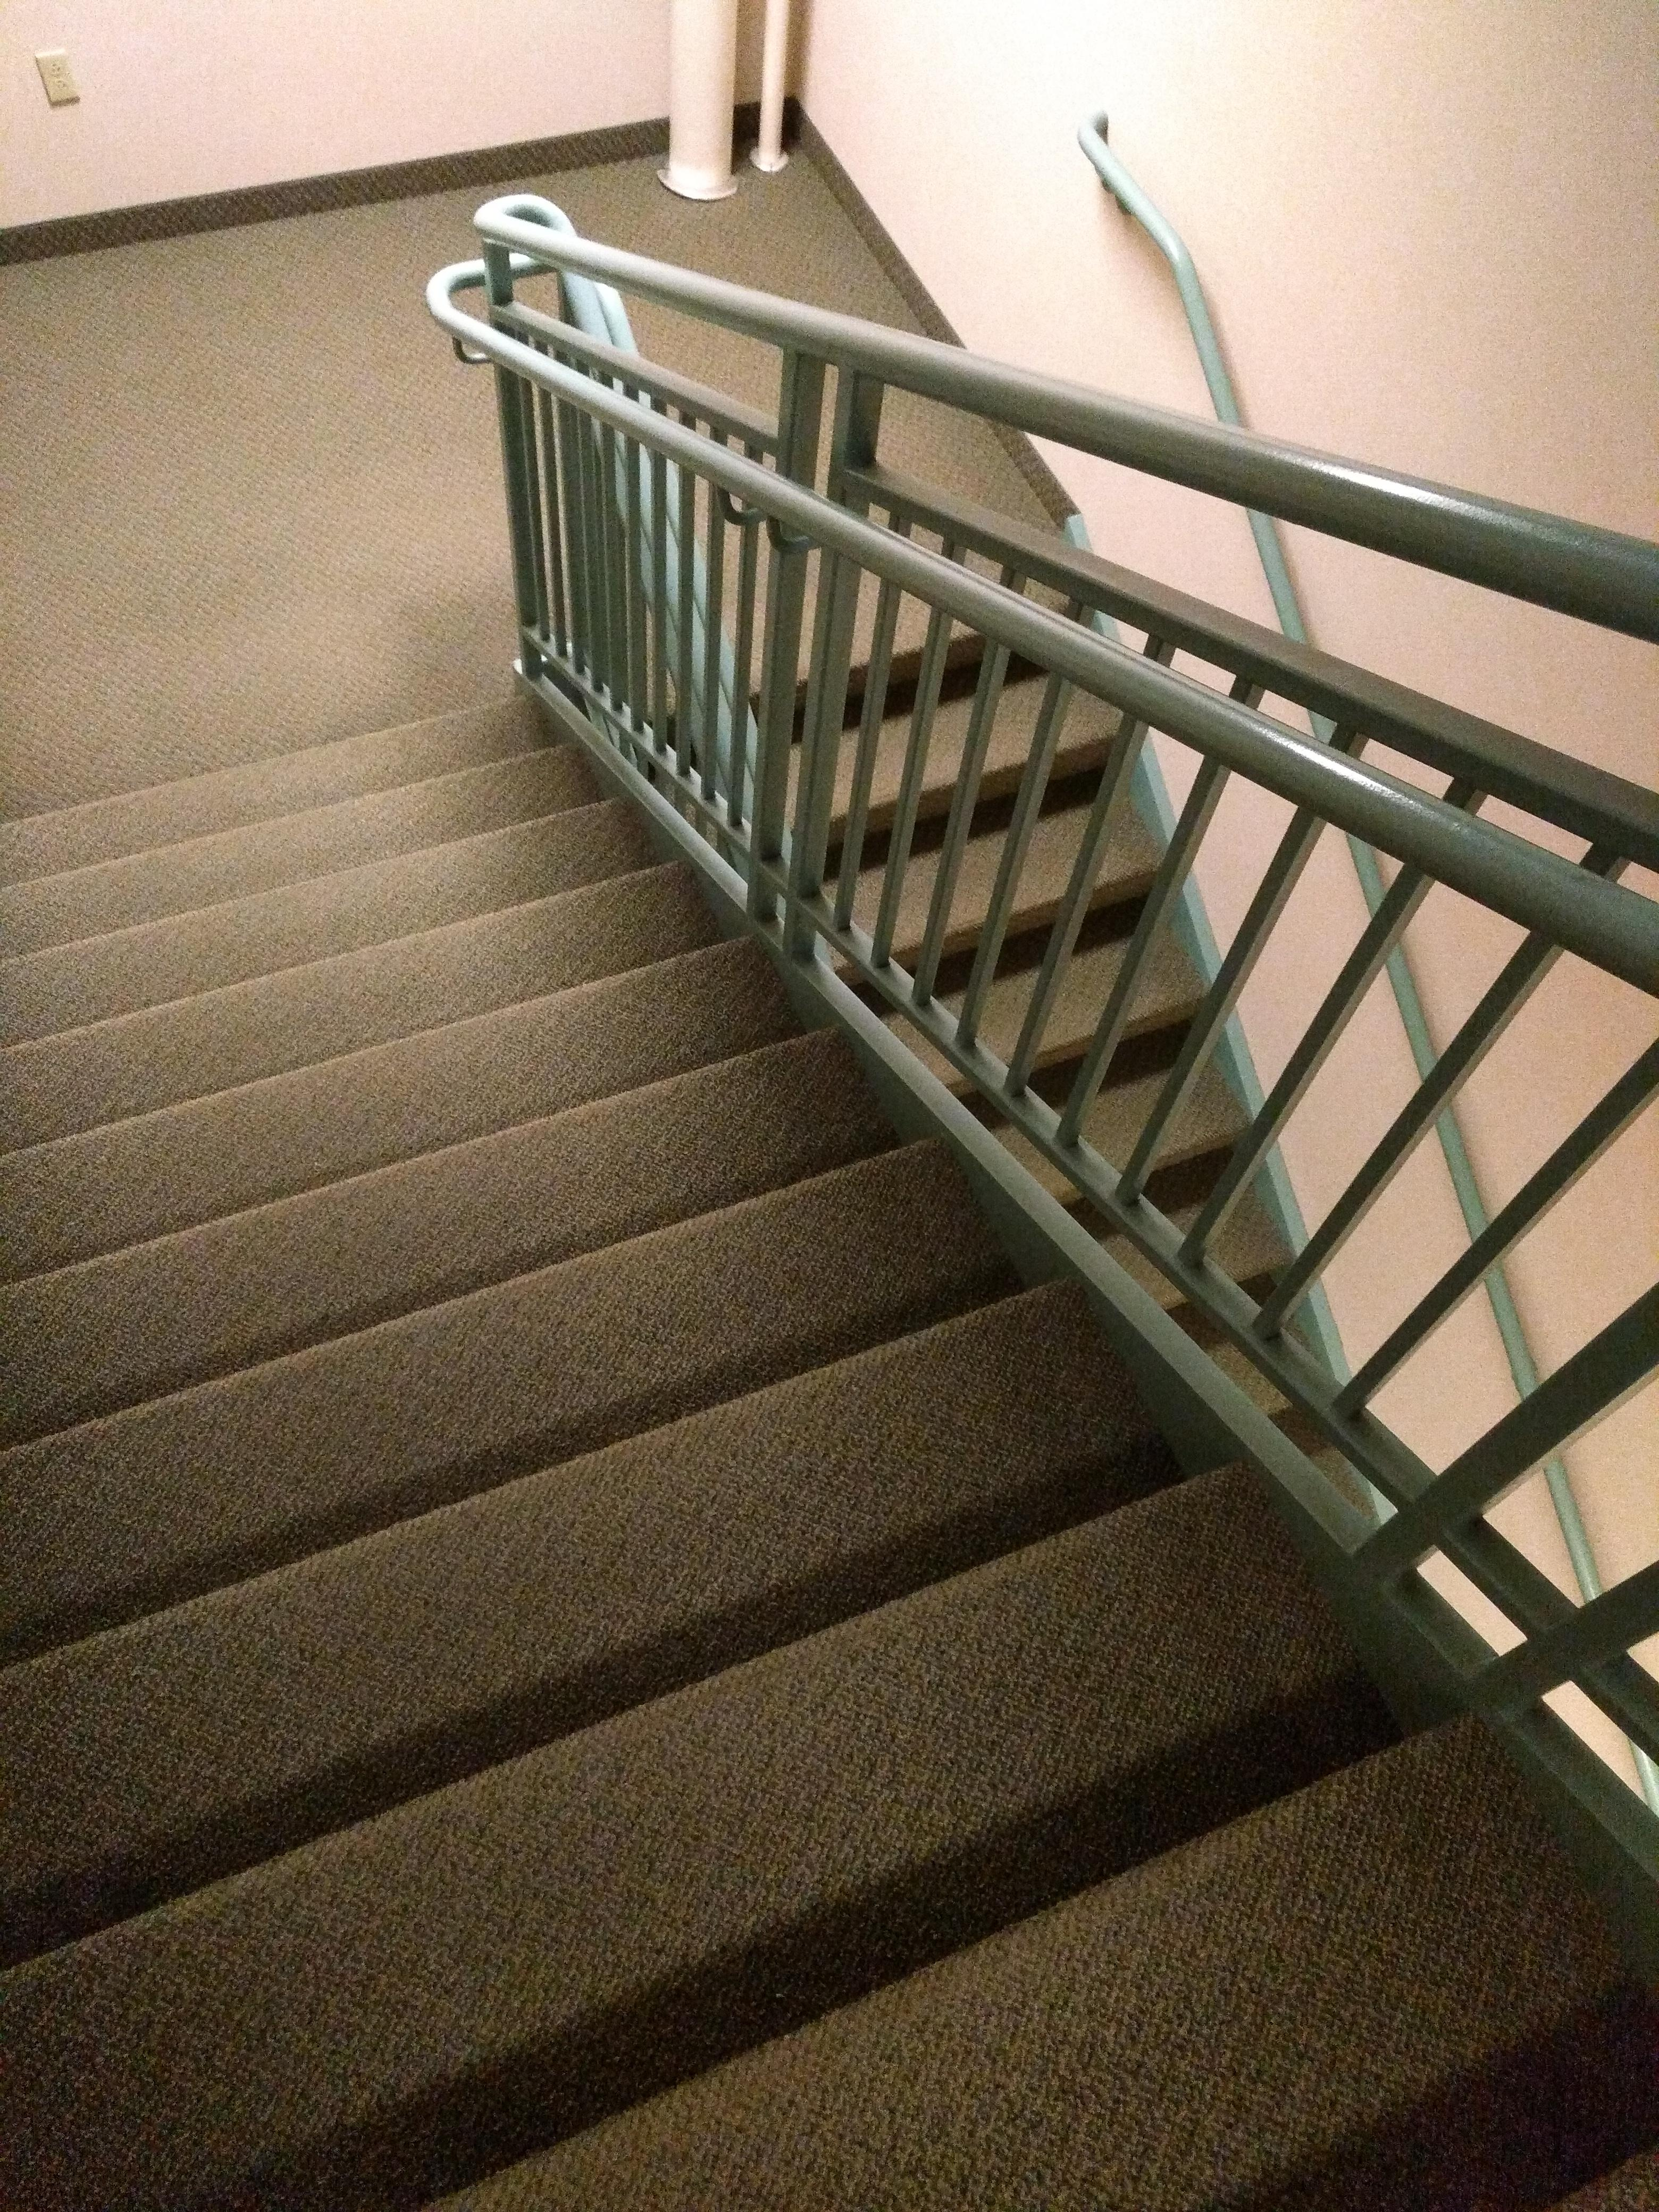stairs_down: (5, 791, 1619, 2161)
